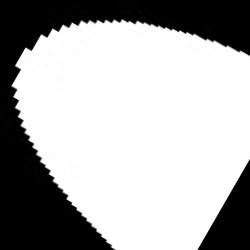spot: (12, 21, 245, 246)
